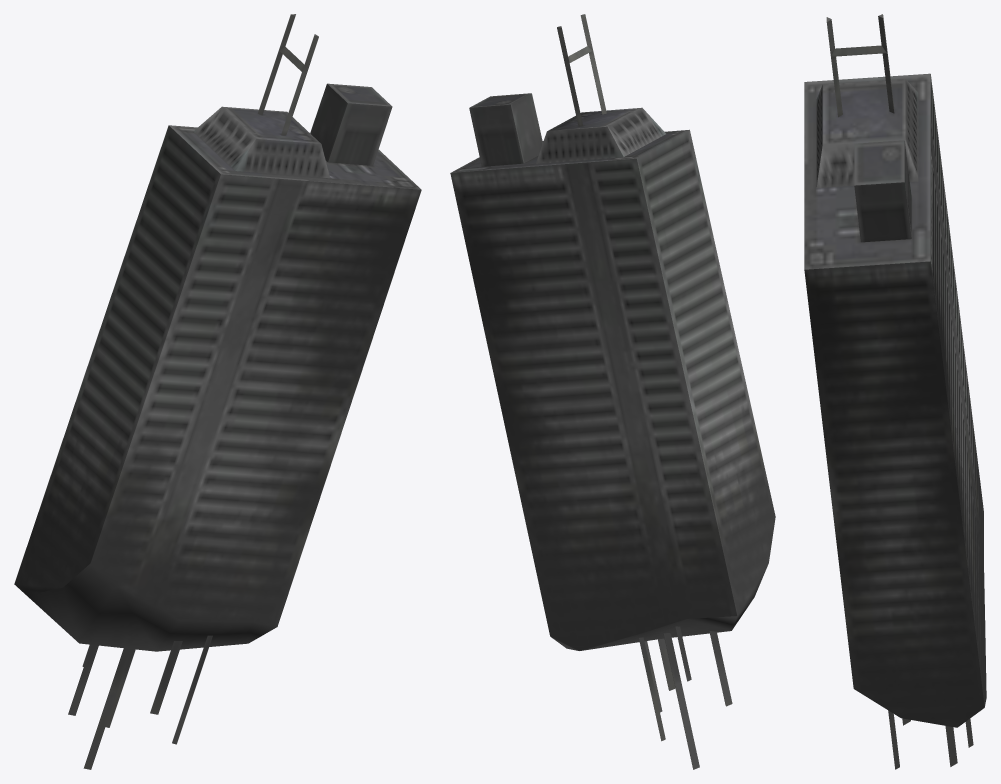
File: skyBuildingAAC_pos_grp.fbx
3 views of the same model, side by side, from view 1: azimuth 30°, elevation 25°; view 2: azimuth 150°, elevation 25°; view 3: azimuth 270°, elevation 25° (orthographic). The views are drawn at different scales.
Visible parts, largest first — view 1: skyBuildingAAC_geo; view 2: skyBuildingAAC_geo; view 3: skyBuildingAAC_geo.
Boxes of the visible parts, box(x1,y1,x2,y2) form: skyBuildingAAC_geo: box(14, 14, 421, 769); skyBuildingAAC_geo: box(450, 14, 775, 769); skyBuildingAAC_geo: box(804, 14, 986, 769).
Bounding box in the file's own units: 6.03 × 12.74 × 2.48.
